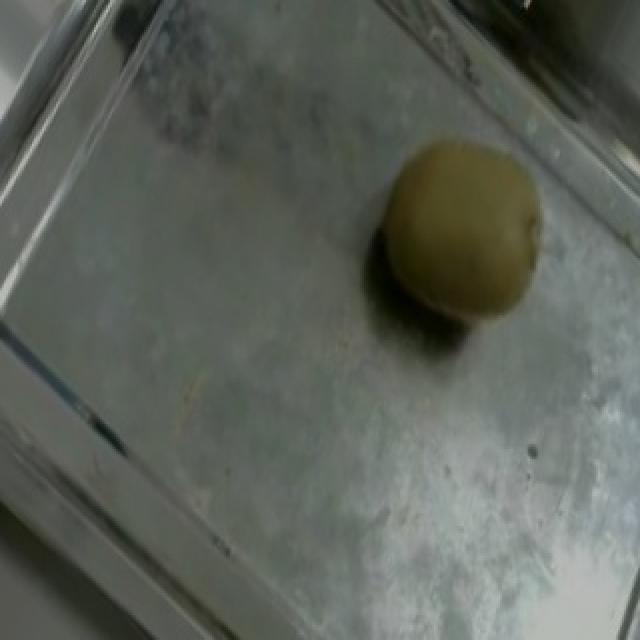Fruit: (332, 102, 590, 360)
